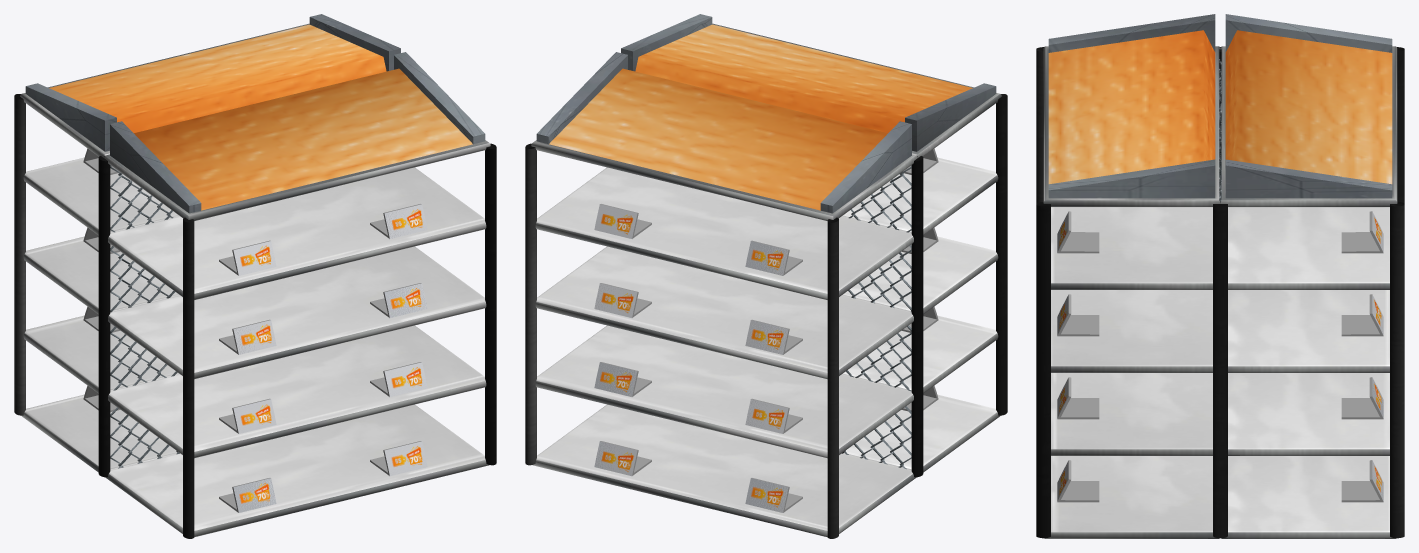
File: NMCShelf000V2.fbx
The picture shows the model from 3 angles, left to right: view 1: azimuth 30°, elevation 25°; view 2: azimuth 150°, elevation 25°; view 3: azimuth 270°, elevation 25°; orthographic projection. The views are drawn at different scales.
Parts seen in each view (by area): view 1: Shelf000V2; view 2: Shelf000V2; view 3: Shelf000V2.
Boxes of the visible parts, box(x1,y1,x2,y2) form: Shelf000V2: box(14, 14, 496, 538); Shelf000V2: box(525, 14, 1007, 538); Shelf000V2: box(1036, 14, 1404, 538).
Bounding box in the file's own units: 206 × 225 × 201.
Materials: 1 (1 with a texture image).
